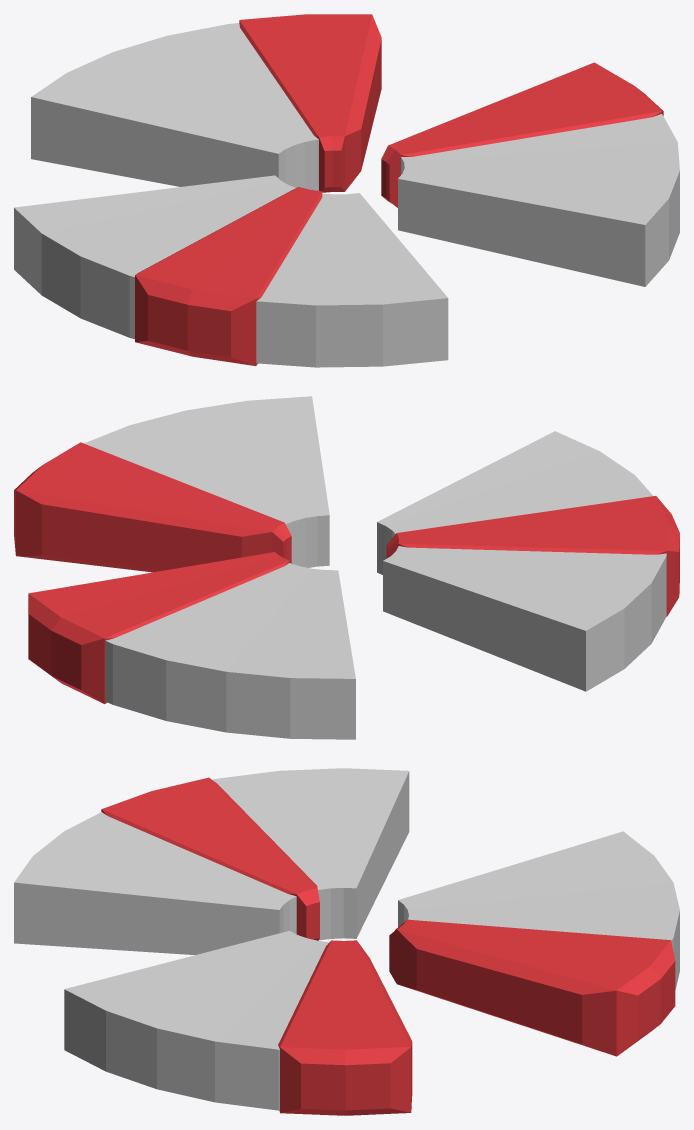
File: platform_triplegap2.glb
3 renders of one model, top to bottom at view 1: azimuth 30°, elevation 25°; view 2: azimuth 150°, elevation 25°; view 3: azimuth 270°, elevation 25°, orthographic. The views are drawn at different scales.
Parts seen in each view (by area): view 1: Platform_TripleGap2, Danger.011, Danger.010, Danger.001; view 2: Platform_TripleGap2, Danger.001, Danger.010, Danger.011; view 3: Platform_TripleGap2, Danger.010, Danger.001, Danger.011.
Part boxes in pixels (x1,y1,x2,y2): Platform_TripleGap2: (14,23,679,367); Danger.011: (135,187,322,365); Danger.010: (239,14,381,192); Danger.001: (381,62,663,207); Platform_TripleGap2: (84,396,666,739); Danger.001: (14,442,291,572); Danger.010: (28,552,292,703); Danger.011: (386,496,679,616); Platform_TripleGap2: (14,768,679,1110); Danger.010: (389,919,675,1056); Danger.001: (278,940,412,1115); Danger.011: (101,777,319,940).
Size of the model in its own units: 2.04 by 0.2167 by 1.98.
